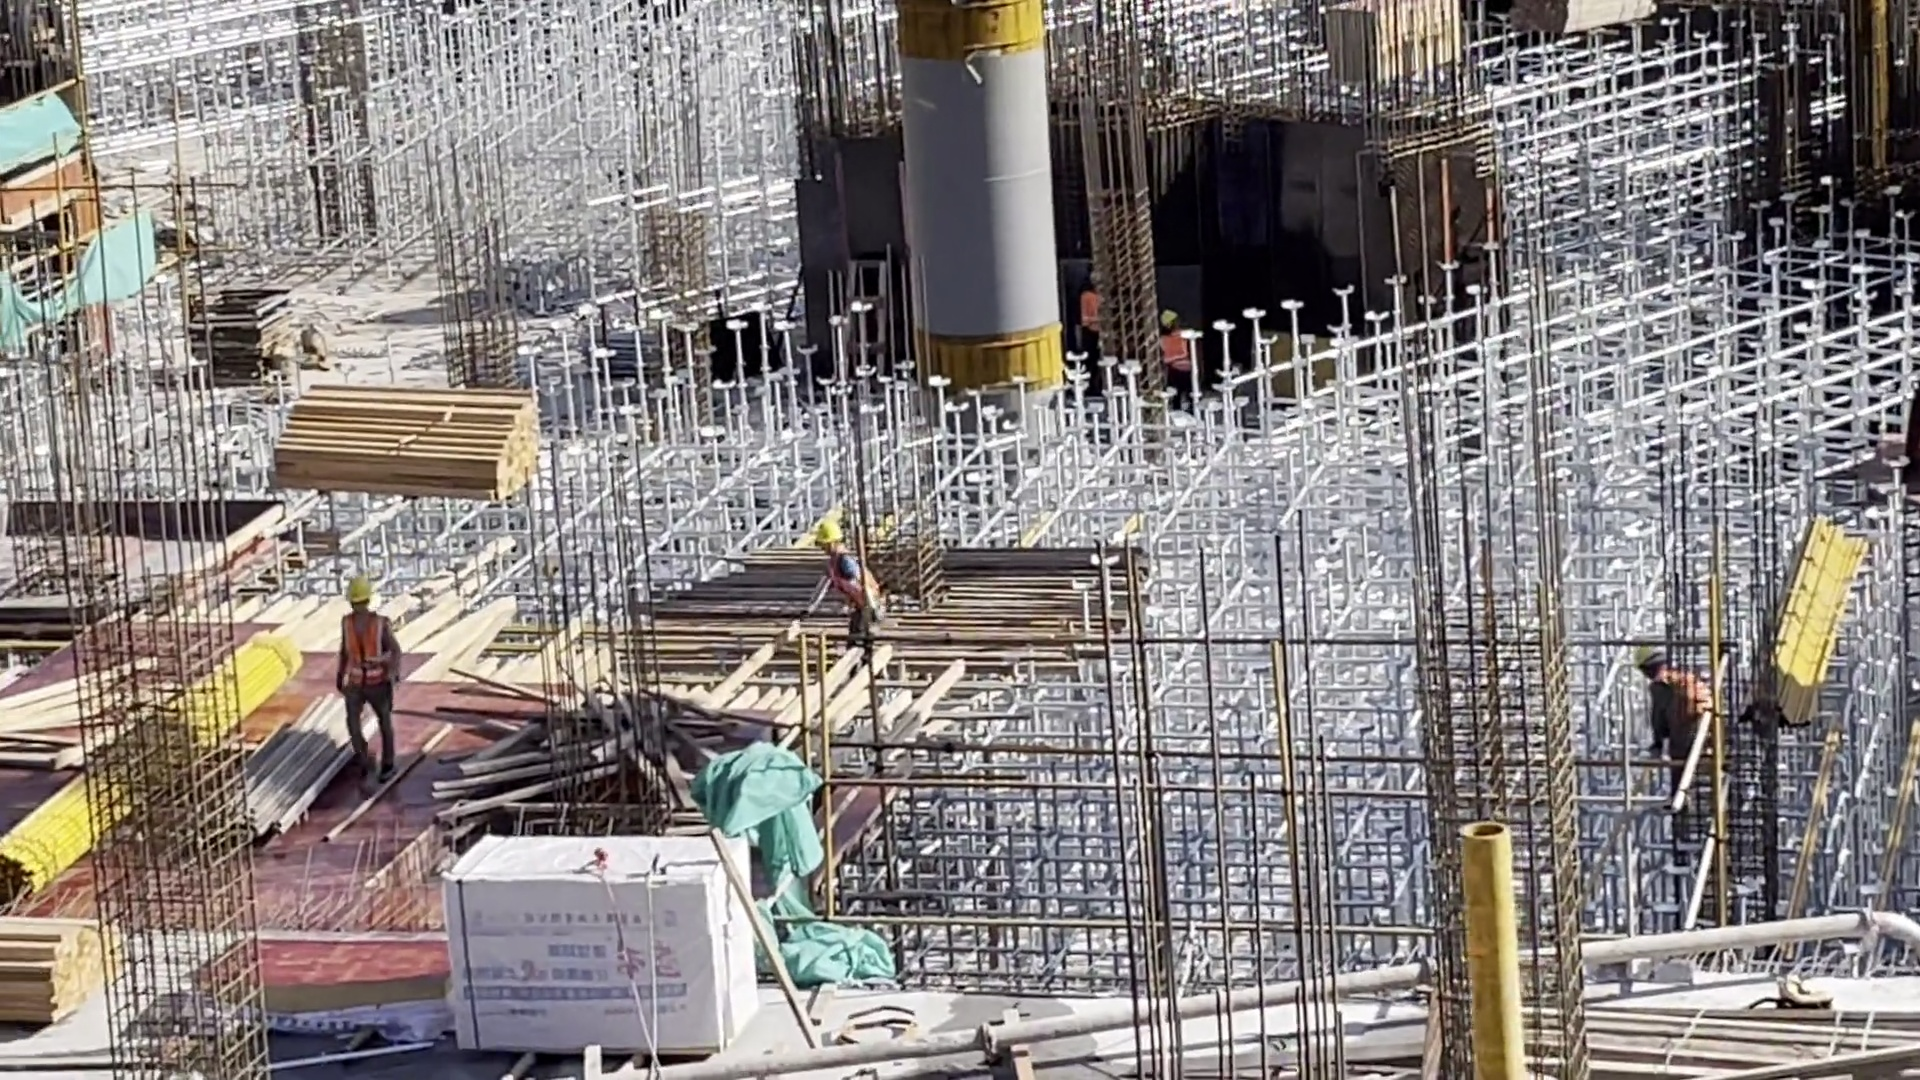board: (186, 268, 300, 399)
helmet: (1633, 639, 1673, 680), (344, 568, 379, 613), (816, 520, 846, 555), (1157, 310, 1179, 329)
person: (1633, 626, 1720, 847), (334, 570, 404, 788), (819, 520, 883, 661), (1151, 306, 1204, 415), (1081, 272, 1112, 366)
vest: (338, 610, 395, 707), (832, 548, 882, 629), (1159, 332, 1197, 380), (1078, 289, 1109, 344)
wood: (263, 374, 561, 514), (1, 912, 136, 1035), (1508, 1, 1670, 48)
